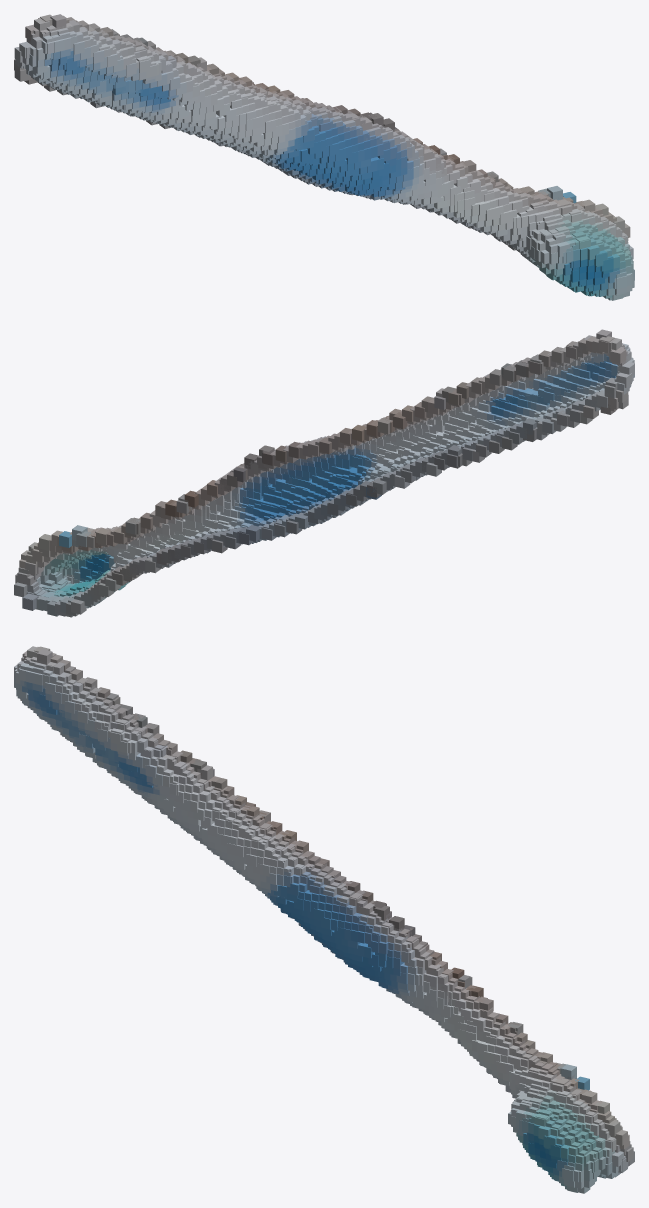
File: toothbrush.glb
The picture shows the model from 3 angles, top to bottom: view 1: azimuth 30°, elevation 25°; view 2: azimuth 150°, elevation 25°; view 3: azimuth 330°, elevation 25°; orthographic projection.
Parts seen in each view (by area): view 1: world; view 2: world; view 3: world.
Part boxes in pixels (x1,y1,x2,y2): world: [14, 14, 634, 300]; world: [14, 329, 634, 617]; world: [14, 646, 634, 1193].
Bounding box in the file's own units: 0.1818 × 0.1153 × 0.0235.
